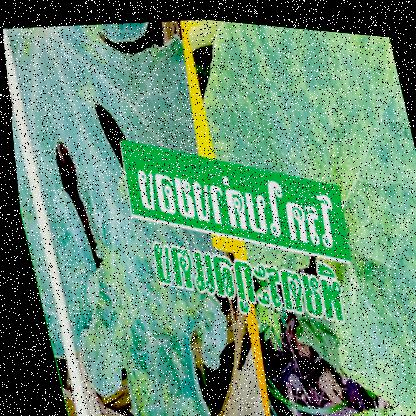CassavaMosaicDisease: (193, 15, 415, 172), (310, 69, 415, 257), (325, 243, 415, 388)
